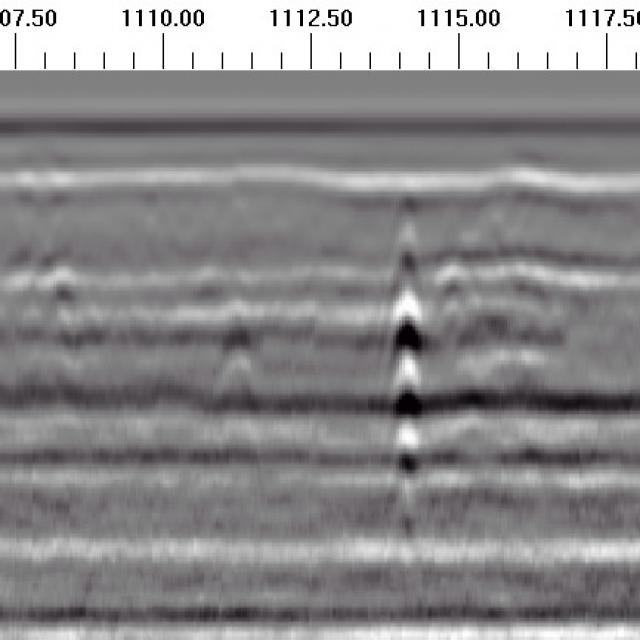crack: (385, 187, 425, 539)
